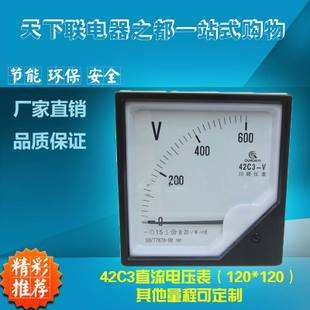pointer: (123, 99, 283, 260)
